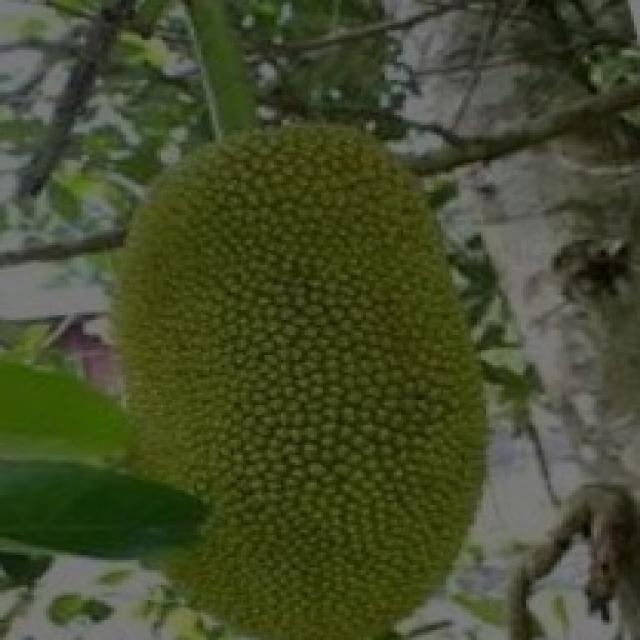Fruit: (136, 225, 538, 640), (77, 85, 508, 393)
